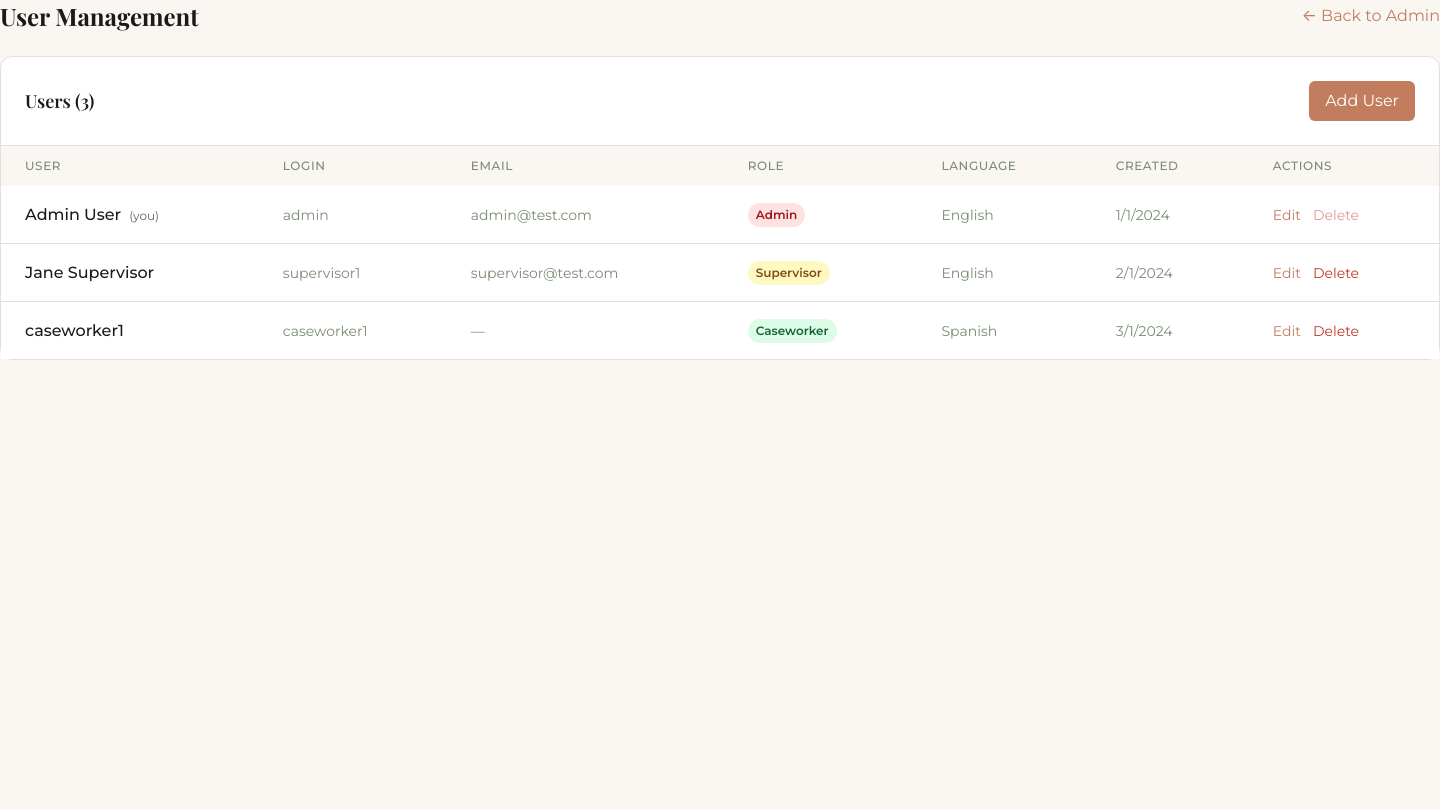
Scenario: AdminUsersPage › should leave the role select enabled when editing another user
Expected: the heading "Users (3)" is shown, [25,87,94,115]
What coordinates should you click on to do the following:
click the button "Edit" in the row of "Jane Supervisor"
I would click on:
 (1287, 272)
Its box is [1273,262,1301,282].
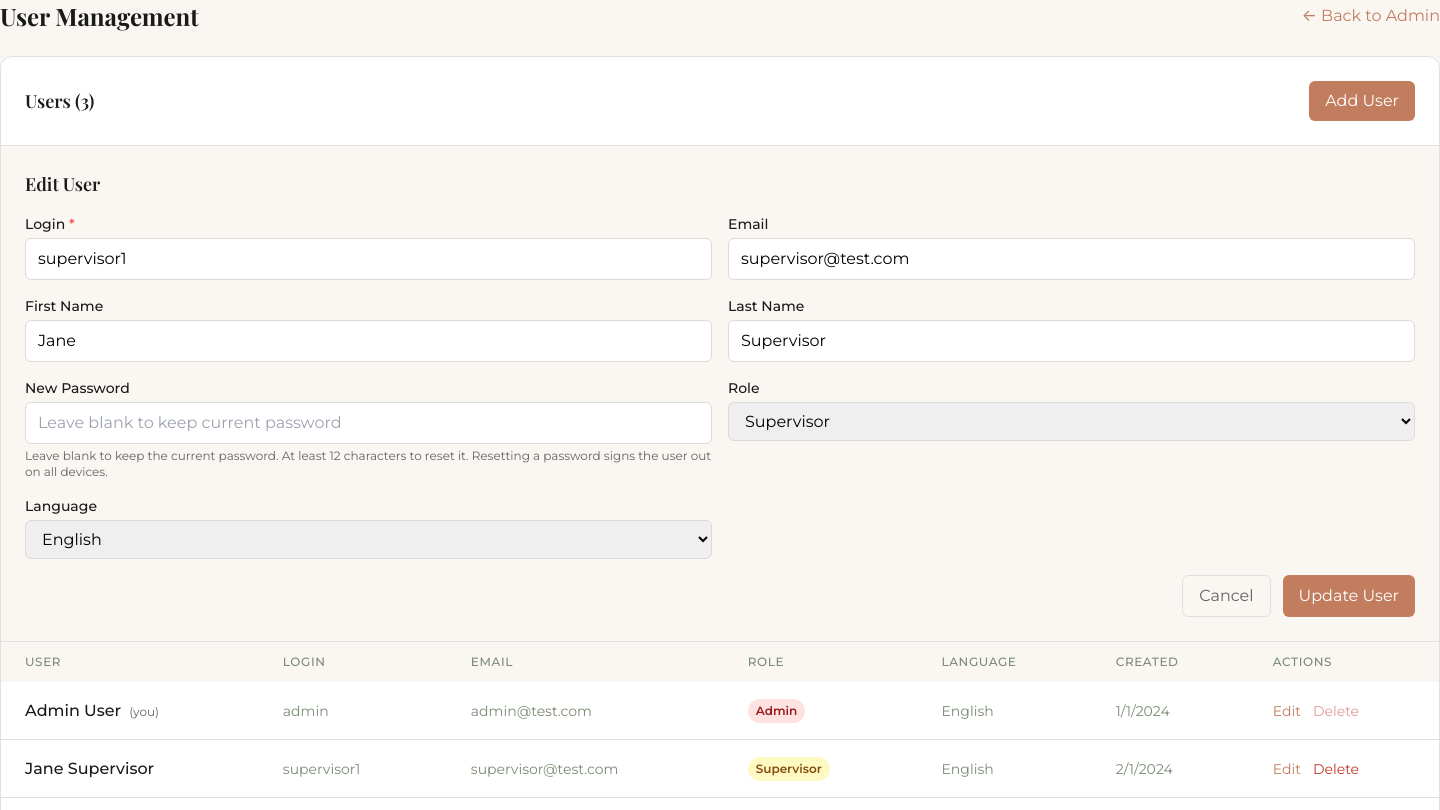
Result: the dropdown labelled "Role" is enabled at [728,402,1415,441]
